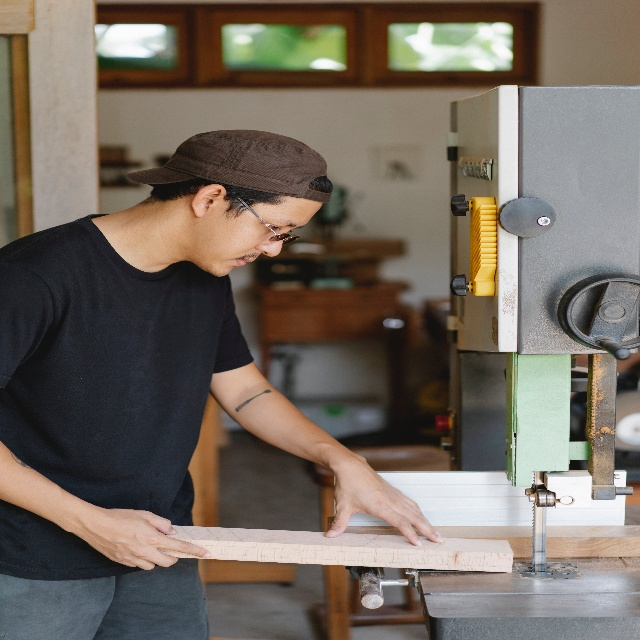Gafas: (235, 195, 300, 245)
Sin_guantes: (324, 456, 443, 547), (91, 509, 212, 570)
